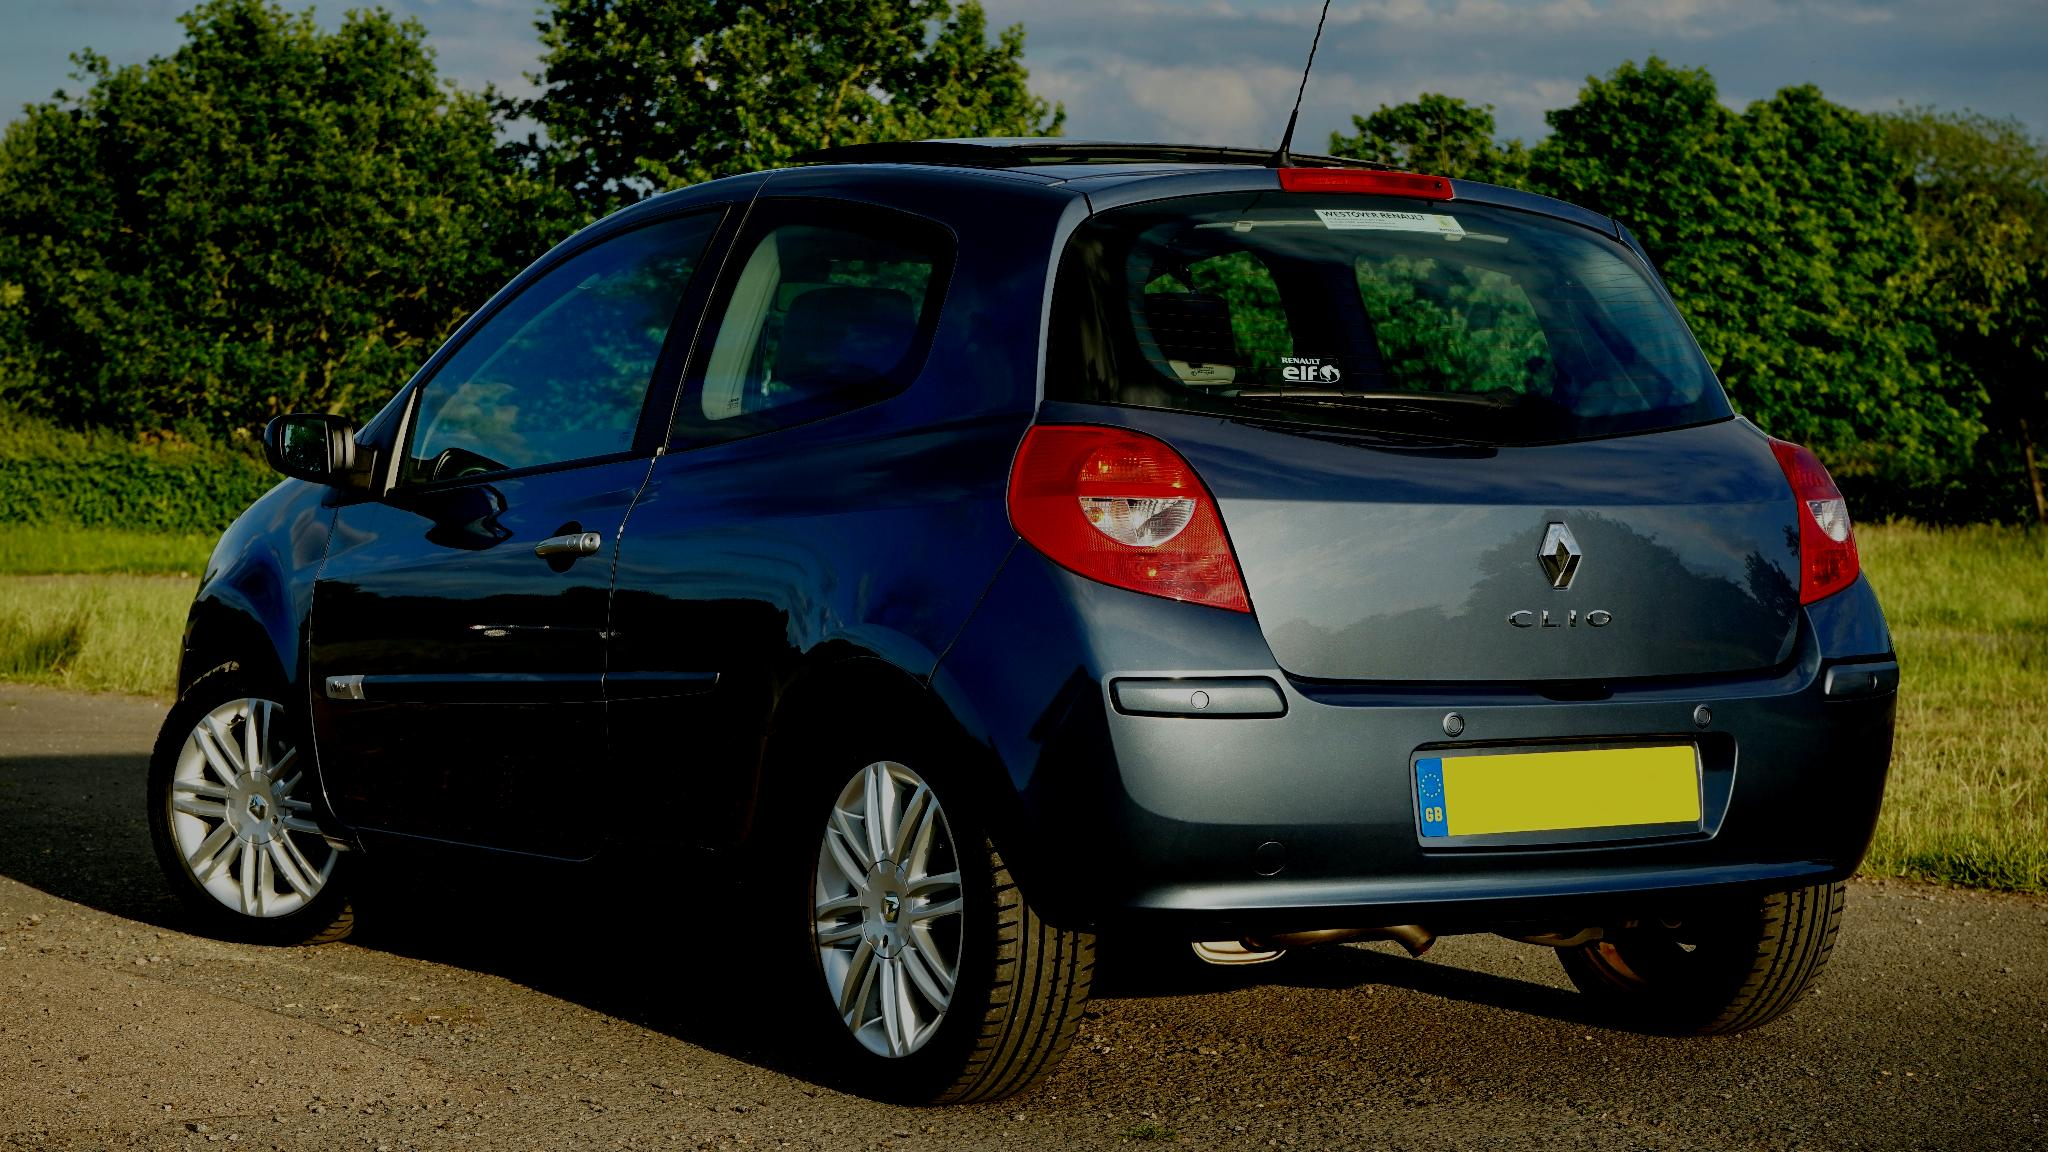Renault: (1506, 504, 1602, 608)
